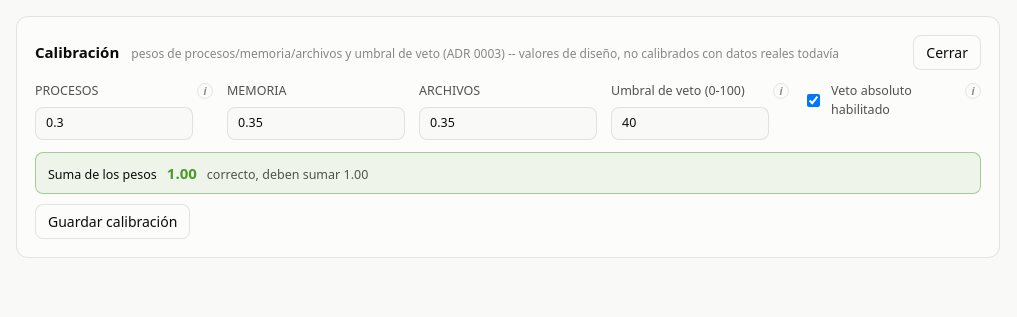
Test case: CalibracionPanel › muestra el error del backend si el guardado falla
The width and height of the screenshot is (1017, 317).
Expected: the number field labelled "PROCESOS" is shown, [35, 107, 193, 140]
Click the button "Guardar calibración".
click(113, 222)  # box [35, 204, 190, 239]
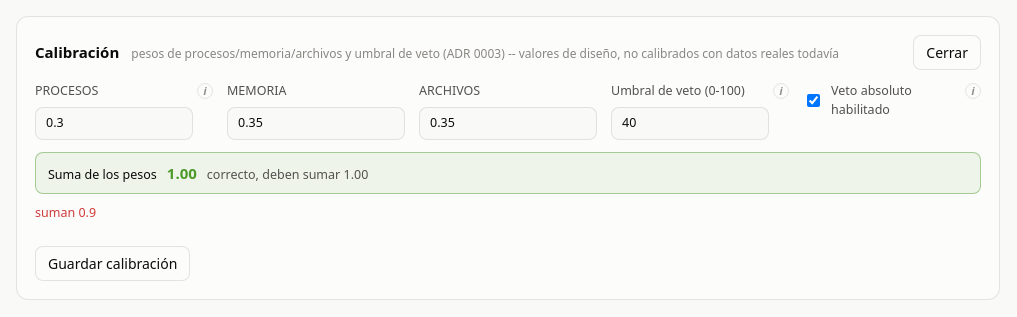
Expected: the text "suman 0.9" is shown, [35, 204, 96, 221]
